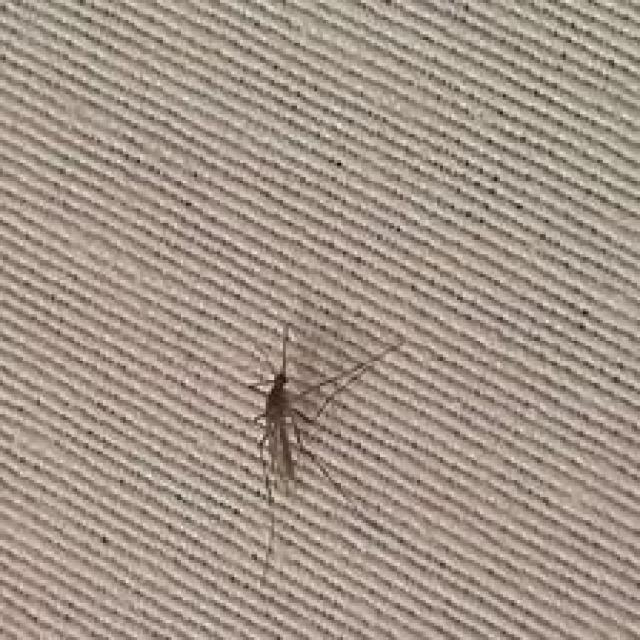Culex: (239, 319, 410, 584)
